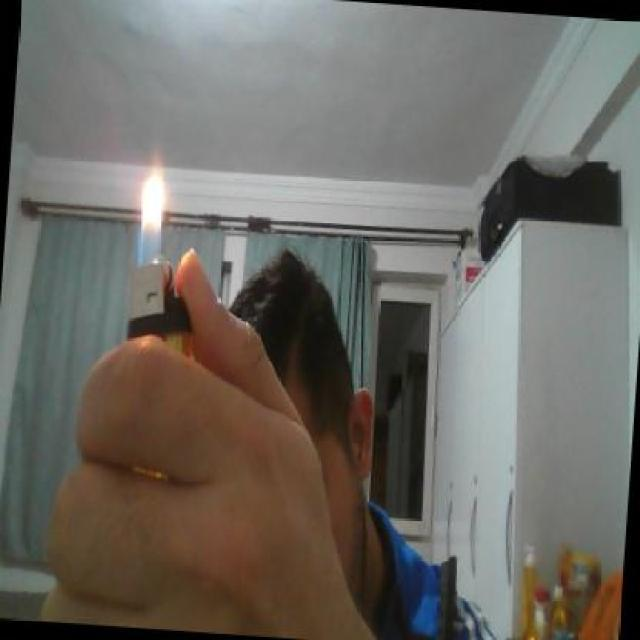Fire: (114, 144, 186, 271)
